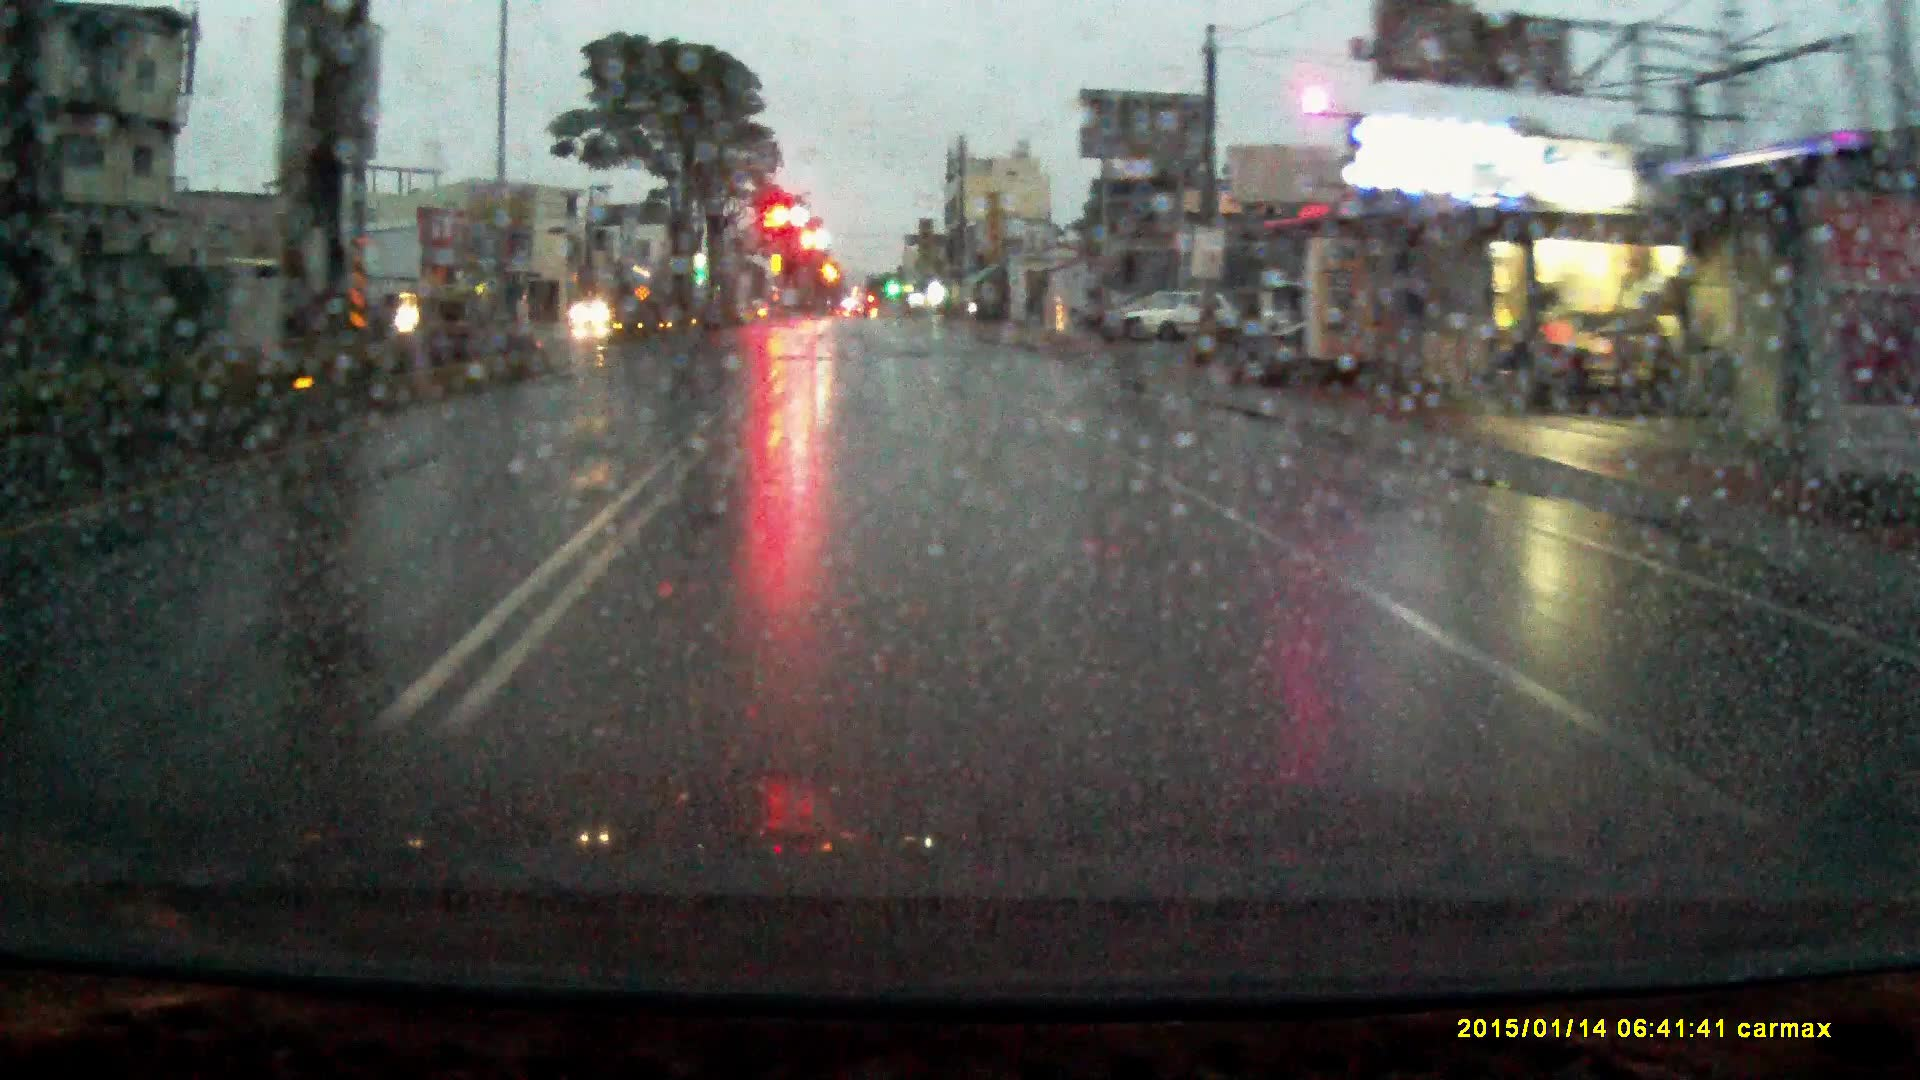vehicle: (1118, 284, 1240, 342), (568, 293, 618, 330)
